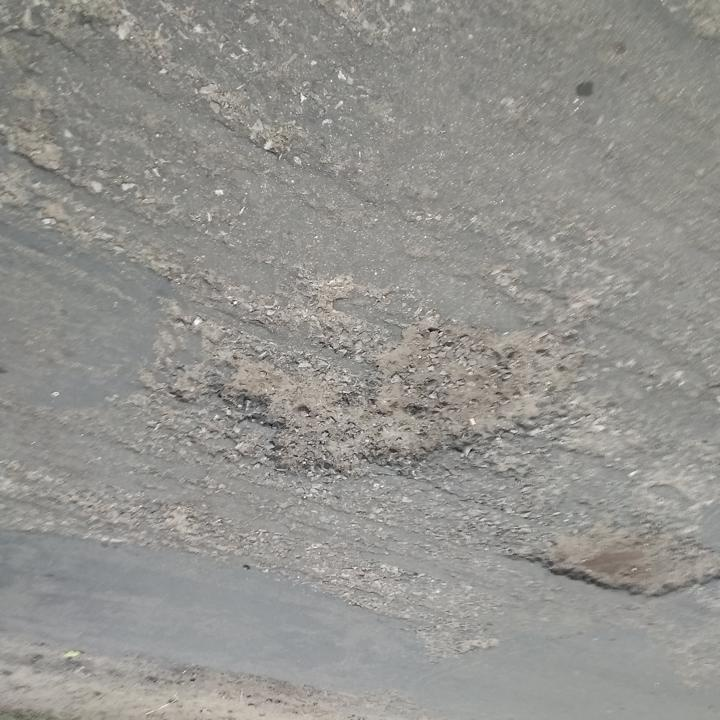pothole: (164, 320, 561, 487), (504, 519, 719, 602)
